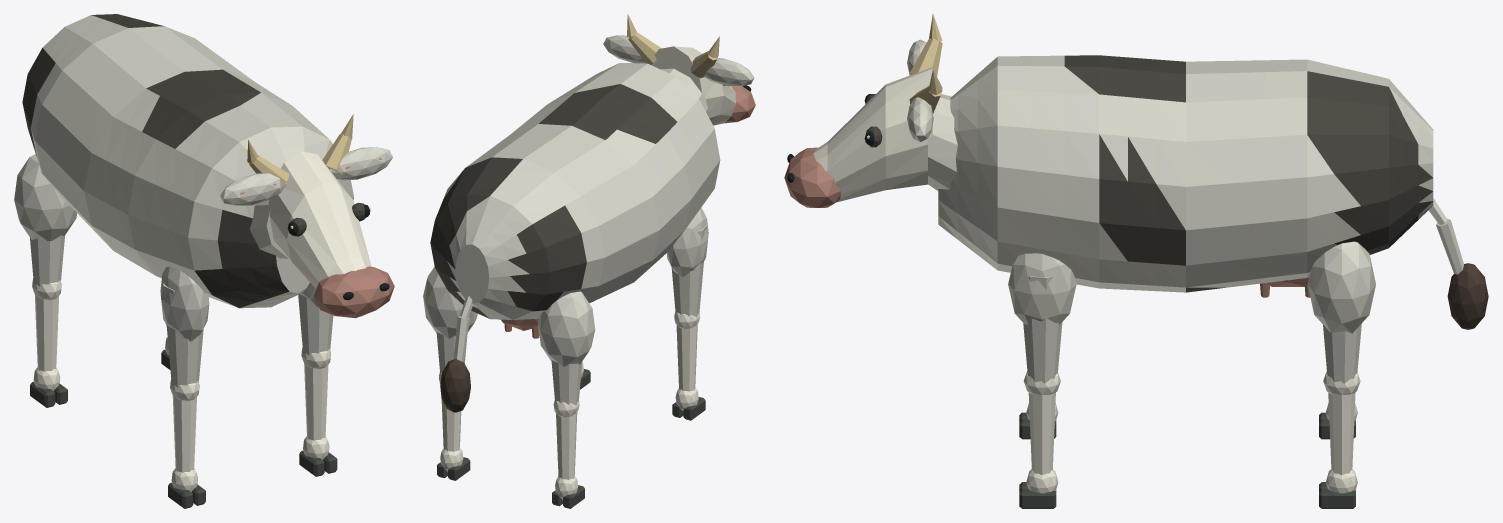
Rendered from cow.glb.
3 renders of one model, left to right at view 1: azimuth 30°, elevation 25°; view 2: azimuth 150°, elevation 25°; view 3: azimuth 270°, elevation 25°, orthographic. The views are drawn at different scales.
Parts seen in each view (by area): view 1: Body_mesh, Head_mesh, UpperLeg.002_mesh, UpperLeg_mesh, UpperLeg.001_mesh, LowerLeg.001_mesh, LowerLeg_mesh, LowerLeg.002_mesh, Ear_mesh, Ear.001_mesh, Horn.001_mesh, Horn_mesh (+3 smaller); view 2: Body_mesh, UpperLeg.002_mesh, Head_mesh, UpperLeg_mesh, UpperLeg.003_mesh, Tail_mesh, LowerLeg_mesh, LowerLeg.002_mesh, LowerLeg.003_mesh, Ear_mesh, Ear.001_mesh, Horn.001_mesh (+5 smaller); view 3: Body_mesh, Head_mesh, UpperLeg.003_mesh, UpperLeg.001_mesh, Tail_mesh, LowerLeg.001_mesh, LowerLeg.003_mesh, Ear.001_mesh, Horn_mesh.
Boxes of the visible parts, bbox=[...] form: Body_mesh: bbox=[22, 14, 353, 308]; Head_mesh: bbox=[250, 151, 394, 318]; UpperLeg.002_mesh: bbox=[14, 154, 76, 300]; UpperLeg_mesh: bbox=[160, 266, 209, 401]; UpperLeg.001_mesh: bbox=[298, 284, 333, 369]; LowerLeg.001_mesh: bbox=[303, 363, 329, 459]; LowerLeg_mesh: bbox=[171, 395, 197, 492]; LowerLeg.002_mesh: bbox=[33, 294, 60, 391]; Ear_mesh: bbox=[220, 173, 286, 205]; Ear.001_mesh: bbox=[329, 147, 393, 180]; Horn.001_mesh: bbox=[322, 114, 353, 174]; Horn_mesh: bbox=[247, 140, 289, 190]; Body_mesh: bbox=[430, 62, 720, 319]; UpperLeg.002_mesh: bbox=[538, 291, 595, 417]; Head_mesh: bbox=[651, 46, 755, 125]; UpperLeg_mesh: bbox=[666, 207, 708, 329]; UpperLeg.003_mesh: bbox=[423, 267, 477, 383]; Tail_mesh: bbox=[440, 296, 473, 412]; LowerLeg_mesh: bbox=[675, 324, 698, 410]; LowerLeg.002_mesh: bbox=[555, 412, 578, 499]; LowerLeg.003_mesh: bbox=[440, 399, 463, 471]; Ear_mesh: bbox=[704, 58, 754, 86]; Ear.001_mesh: bbox=[603, 35, 646, 63]; Horn.001_mesh: bbox=[627, 14, 661, 64]; Body_mesh: bbox=[938, 55, 1433, 292]; Head_mesh: bbox=[784, 67, 957, 207]; UpperLeg.003_mesh: bbox=[1307, 241, 1375, 394]; UpperLeg.001_mesh: bbox=[1008, 253, 1076, 394]; Tail_mesh: bbox=[1428, 198, 1488, 329]; LowerLeg.001_mesh: bbox=[1026, 392, 1058, 493]; LowerLeg.003_mesh: bbox=[1326, 392, 1357, 493]; Ear.001_mesh: bbox=[907, 97, 933, 141]; Horn_mesh: bbox=[909, 14, 942, 76].
Bounding box in the file's own units: 0.9568 × 1.79 × 2.67.
